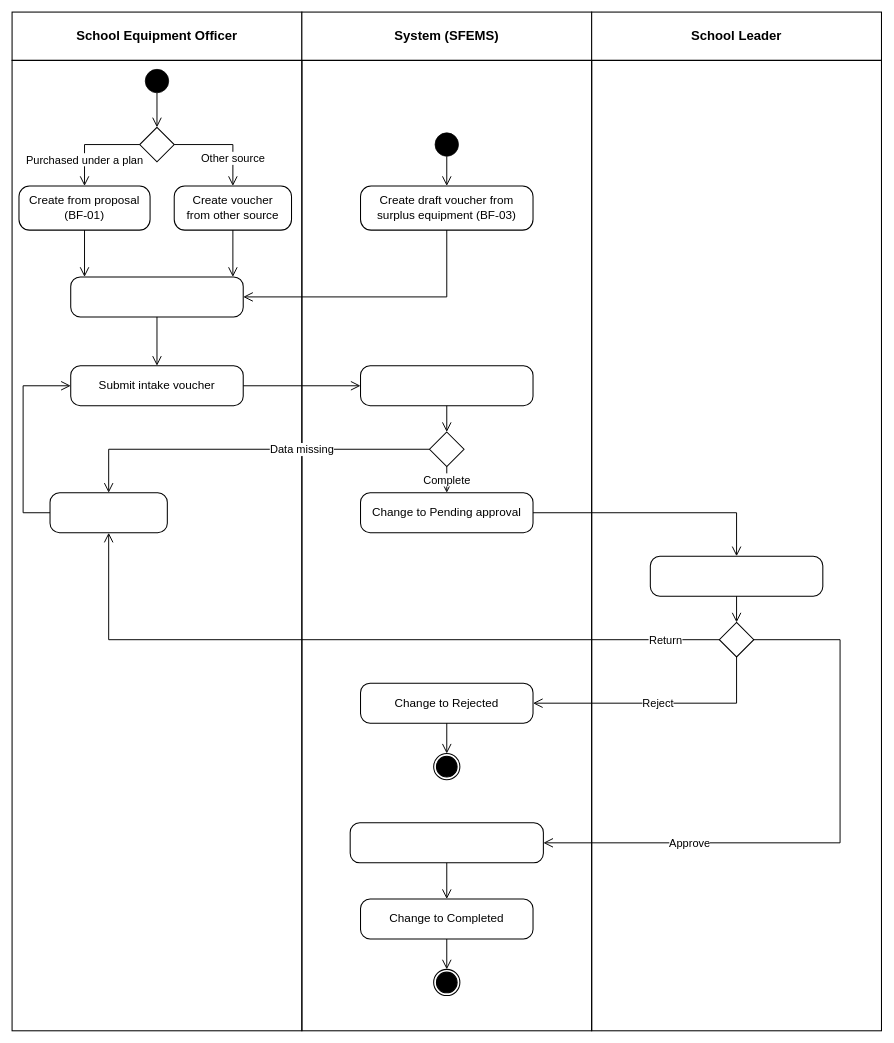
Some shapes in this 894 by 1043 pixel diagram are drawn without their labels. Here are the shapes that lost their labels. From the top down, the box of each, then its label:
(70, 276, 243, 317): Fill in voucher details
(360, 365, 533, 406): Check data
(49, 492, 168, 533): Edit voucher
(649, 555, 823, 596): Review intake voucher
(349, 822, 544, 863): Record intake, generate equipment codes
